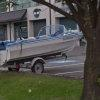Boat: (2, 26, 99, 81)
